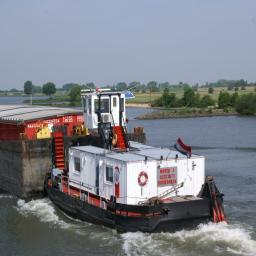tugboat: (43, 85, 231, 243)
